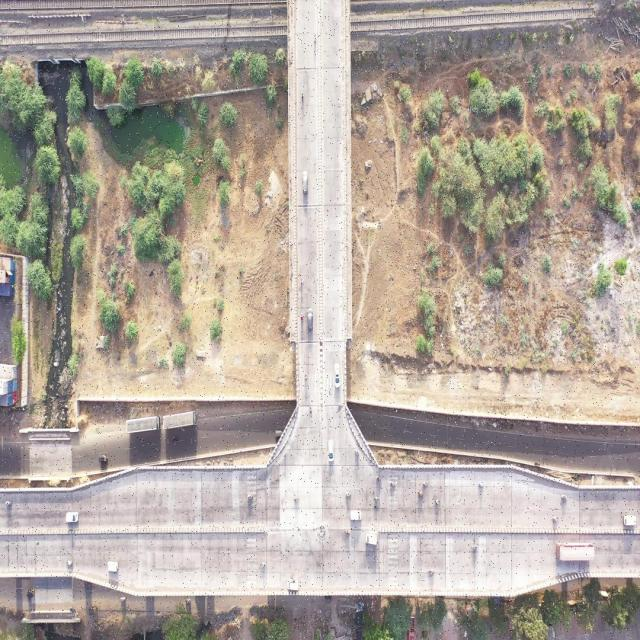3W: (97, 453, 110, 464), (88, 604, 98, 617), (24, 588, 36, 598), (274, 429, 284, 439), (323, 596, 332, 604)
Bus: (553, 542, 596, 563), (162, 410, 198, 431), (126, 415, 162, 435)
Cars: (332, 362, 342, 393), (285, 576, 301, 593), (327, 437, 336, 466), (364, 529, 377, 548), (65, 510, 80, 525), (302, 168, 310, 196), (349, 509, 364, 523), (622, 514, 637, 528), (106, 559, 119, 574), (307, 307, 313, 333)
M2W: (469, 541, 478, 553), (560, 491, 569, 503), (344, 490, 352, 501), (343, 527, 351, 538), (303, 370, 309, 384), (373, 494, 382, 503), (551, 514, 560, 523), (299, 274, 304, 290), (477, 481, 485, 491), (293, 495, 301, 505), (259, 560, 267, 570), (355, 446, 361, 459), (247, 491, 254, 502), (66, 559, 74, 568), (422, 479, 430, 488), (433, 498, 441, 507), (308, 403, 313, 417), (389, 479, 396, 489), (417, 489, 424, 499), (426, 569, 436, 576), (4, 500, 13, 507), (119, 595, 126, 604), (534, 459, 541, 468), (172, 434, 179, 443), (313, 31, 317, 45), (300, 310, 304, 324), (376, 475, 382, 484), (301, 91, 305, 103), (185, 598, 192, 604), (69, 606, 76, 611)
